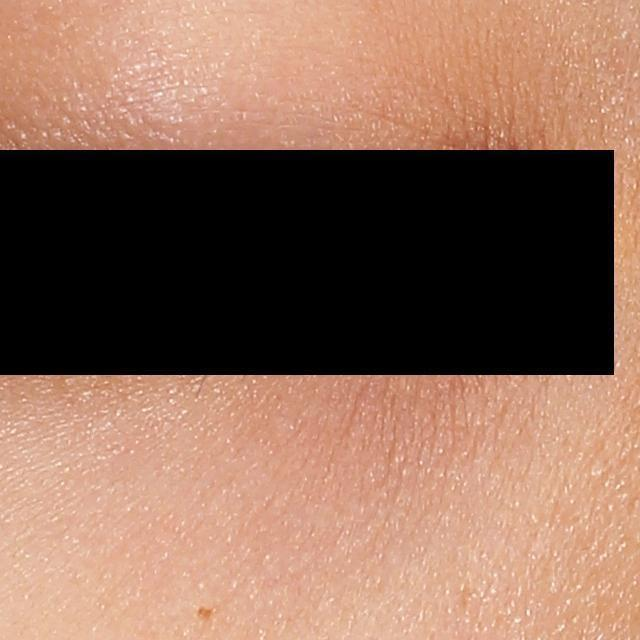nevus: (195, 601, 212, 624)
